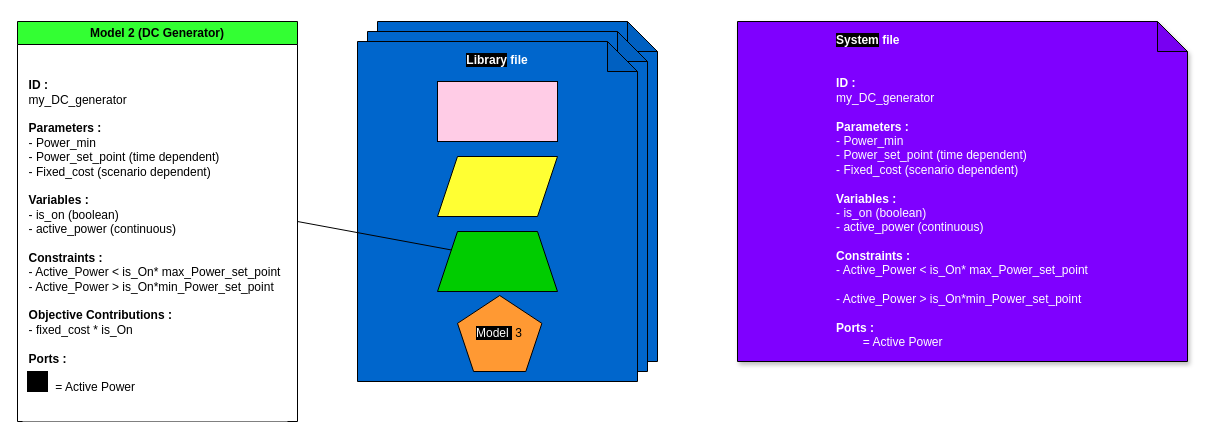
The diagram is 1211 pixels wide and 439 high, and some of its shapes have lost their labels. The shapes that lost their labels are listed below. From the top down, each one's centre as x and y in pixels, then its label:
At (x=497, y=111): "Port types (for each, ID + Fields)".
At (x=497, y=186): "Model 1".
At (x=497, y=261): "Model 2".
